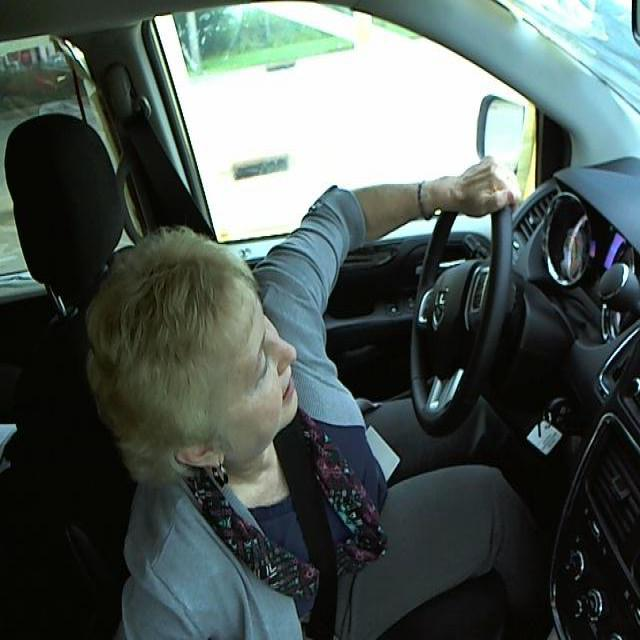seatbelt: (260, 457, 362, 639)
